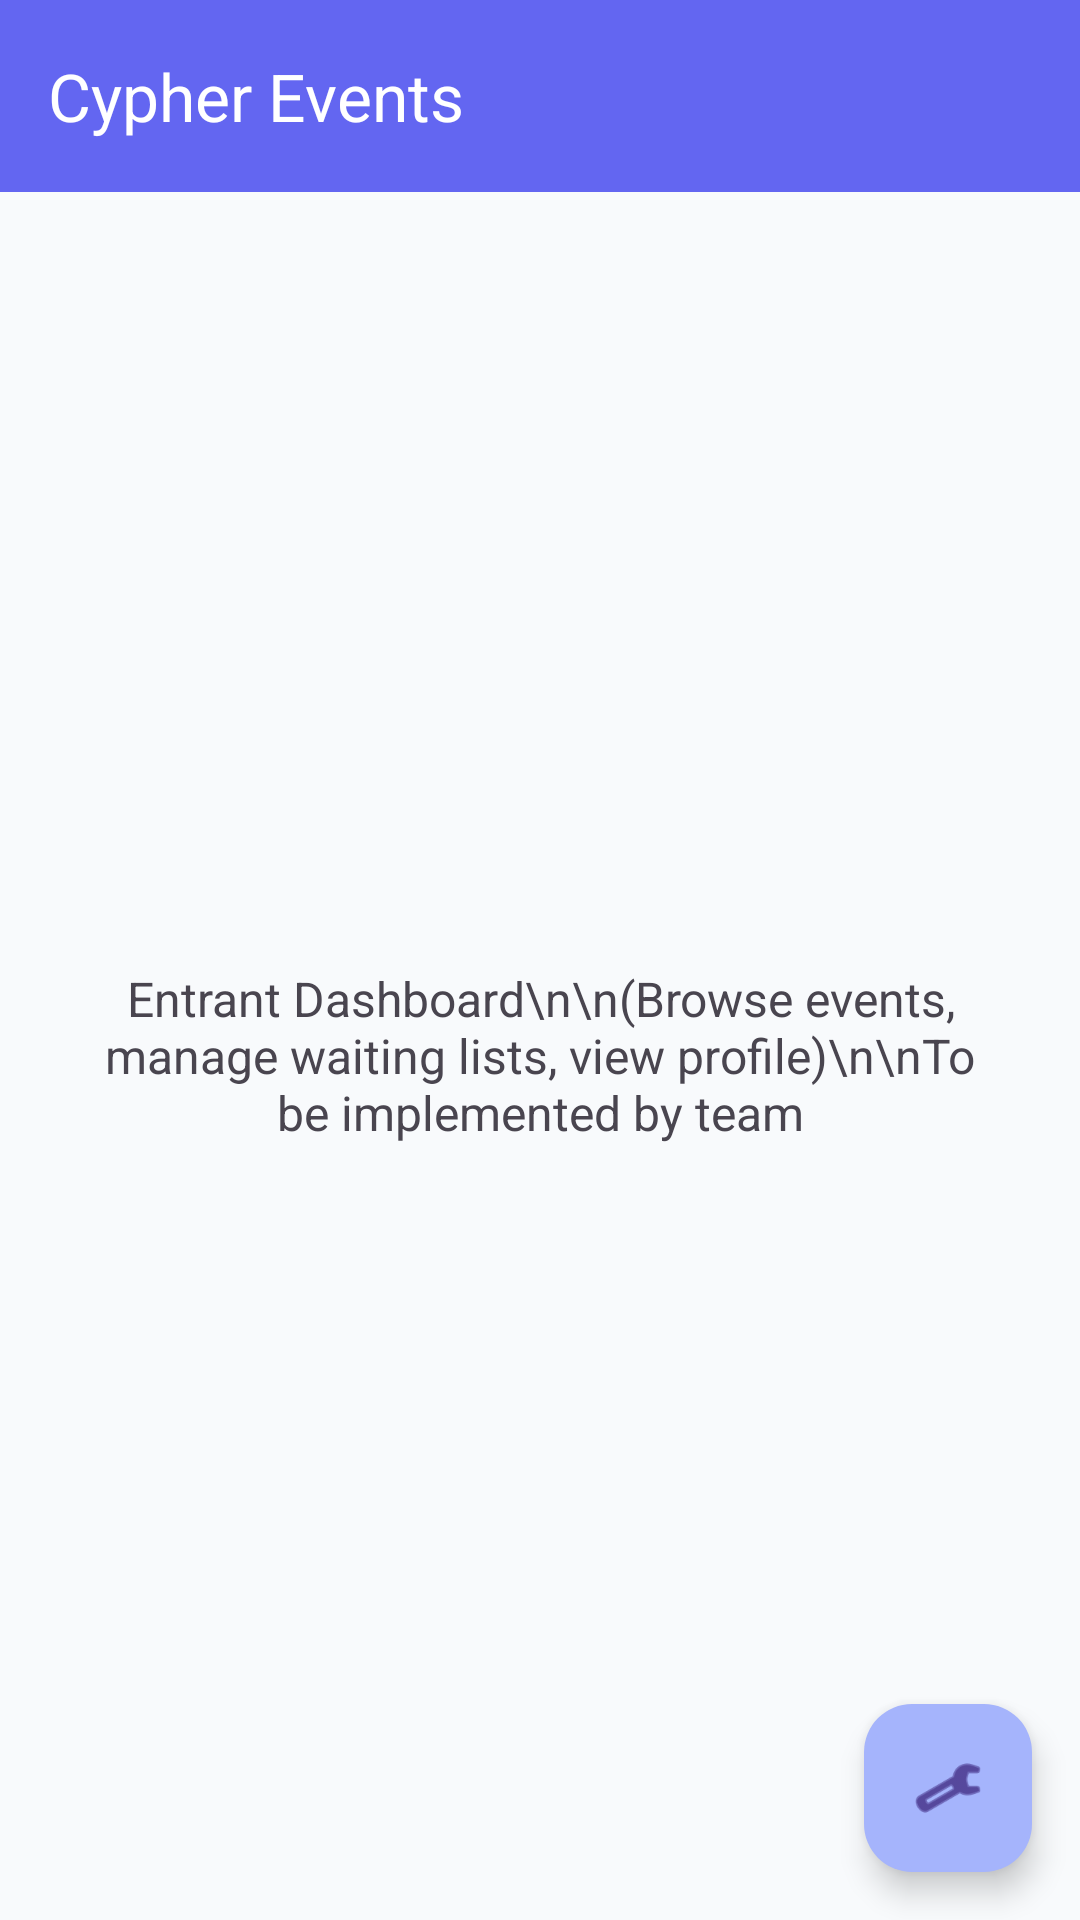

Point at icon controls on the screen. Image size 1080px x 1920px, points as [x,y].
Switch to Organizer Mode: [948,1788]
